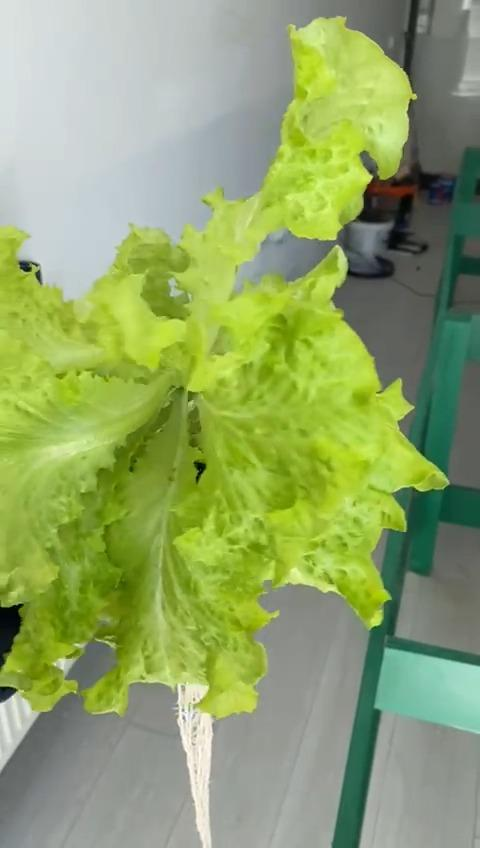Healthy Lettuce: (0, 15, 454, 716)
